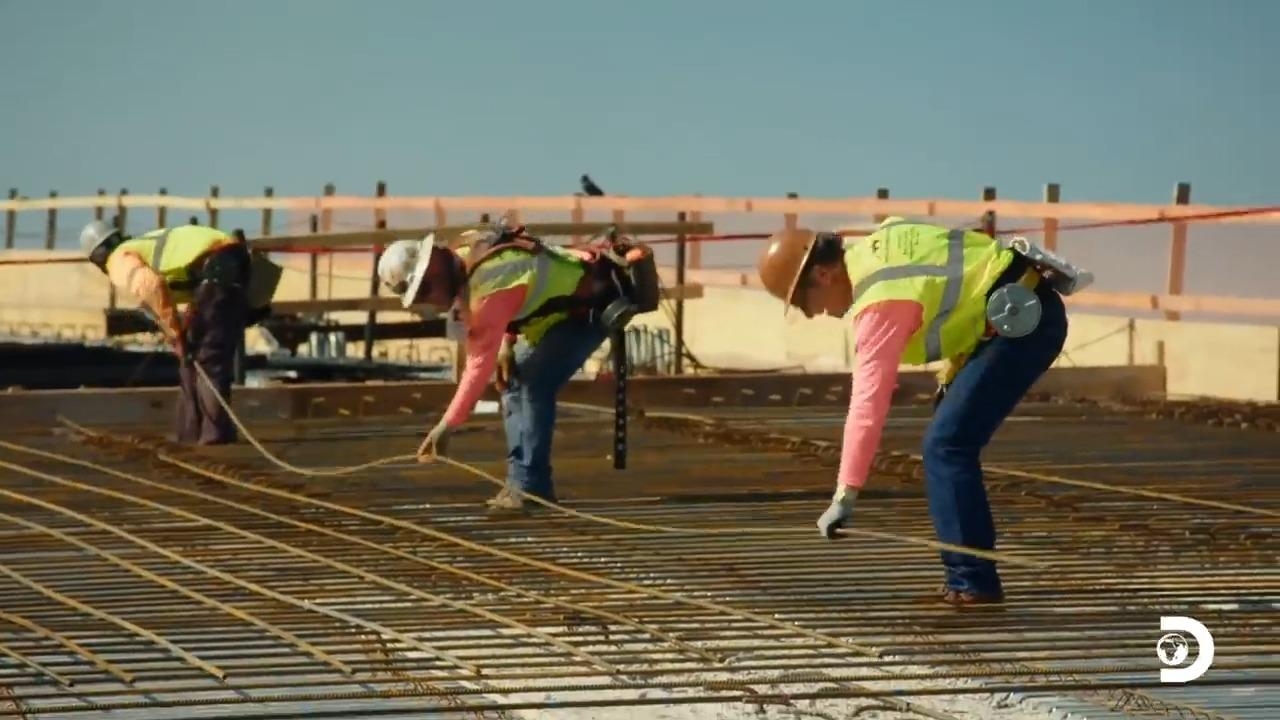Gloves: (815, 492, 857, 543), (418, 419, 455, 462)
Helmet: (370, 228, 439, 309), (758, 227, 818, 316), (79, 219, 119, 257)
Person: (757, 215, 1094, 606), (415, 220, 659, 515), (78, 218, 256, 444)
Safety Boot: (918, 595, 1003, 633), (493, 486, 550, 512)
Safety Vest: (435, 236, 604, 352), (864, 234, 1020, 355), (133, 228, 229, 294)
